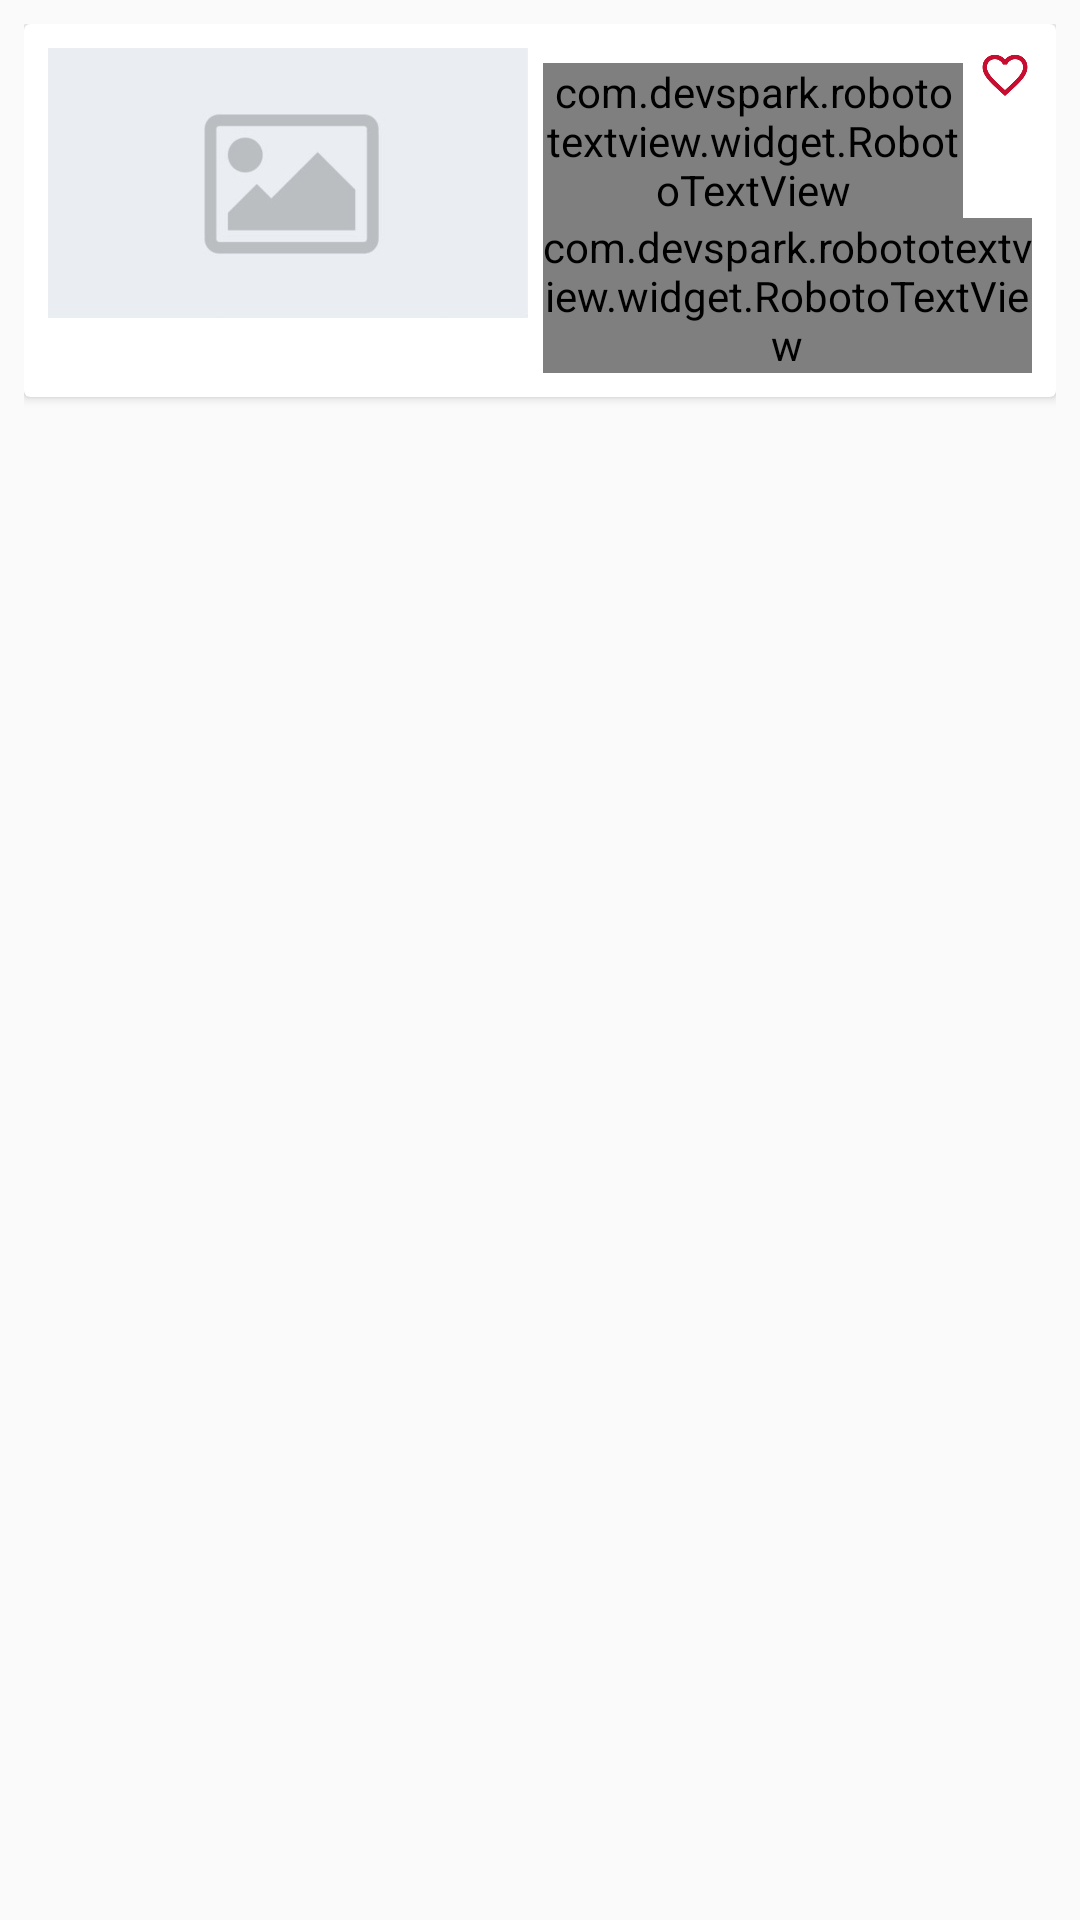

Named icons in this screenshot (1080×1920) and their bounding boxes, {"x1": x1, "y1": y1, "x2": x2, "y2": y2}:
favorite: {"x1": 982, "y1": 55, "x2": 1028, "y2": 96}
